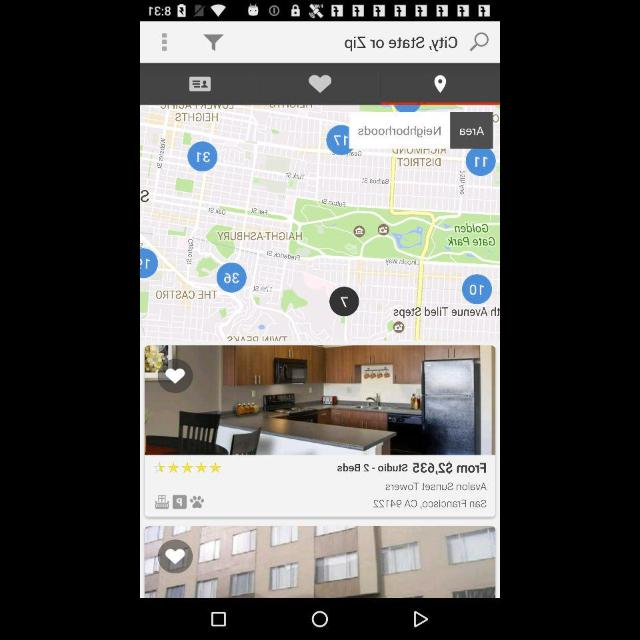icon: (156, 359, 194, 393), (158, 540, 195, 574), (152, 460, 224, 476), (308, 74, 332, 94), (468, 32, 490, 52), (188, 76, 212, 92), (432, 74, 448, 94), (204, 35, 224, 51), (188, 494, 204, 510), (312, 610, 328, 626), (154, 494, 170, 510), (414, 611, 428, 629), (212, 611, 226, 627), (172, 494, 186, 510), (160, 32, 168, 52)
image: (144, 346, 496, 456), (144, 528, 496, 598)
map: (142, 105, 498, 343)
multitab: (141, 62, 499, 106)
panel: (140, 598, 500, 640)
text: (339, 33, 459, 56), (336, 462, 490, 474), (367, 498, 489, 510), (384, 481, 488, 491)
toolbar: (140, 23, 500, 63)
uppertaskbar: (140, 2, 500, 22)
